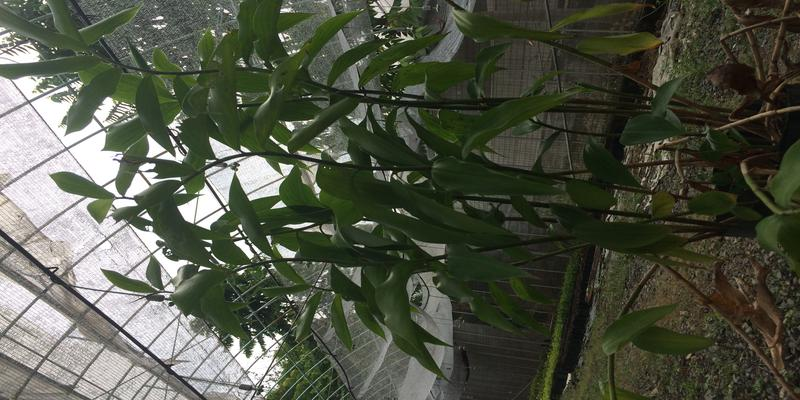Insulin: (46, 7, 781, 257)
